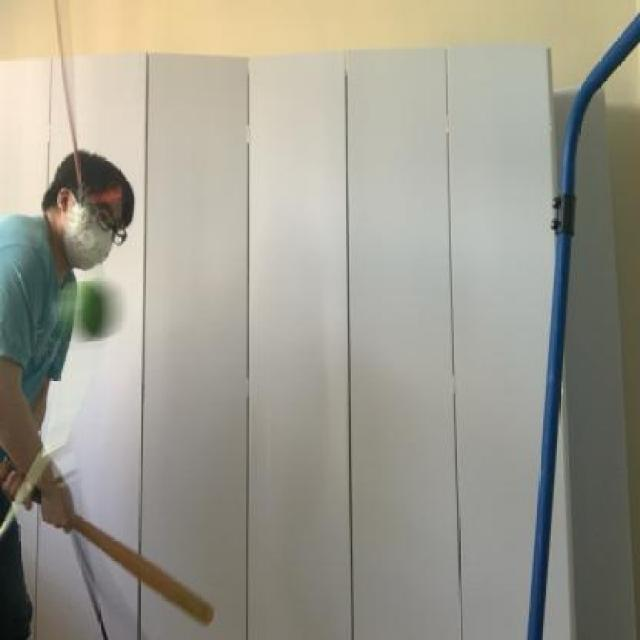baseball: (40, 274, 140, 351)
